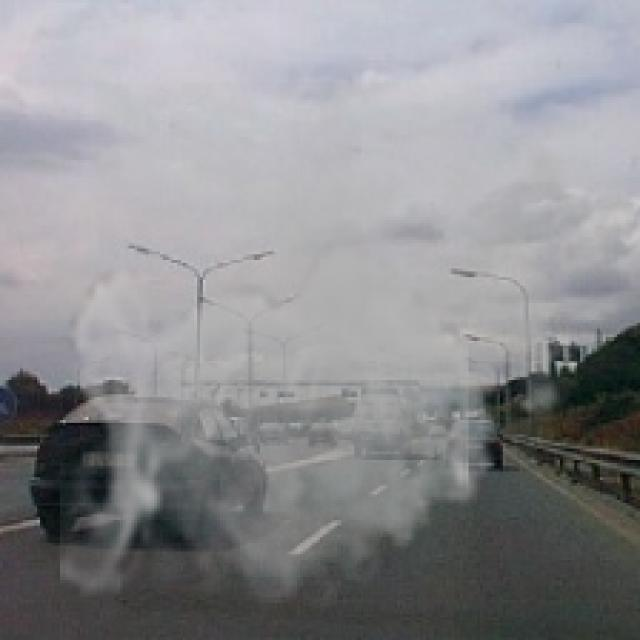smoke: (60, 83, 594, 623)
